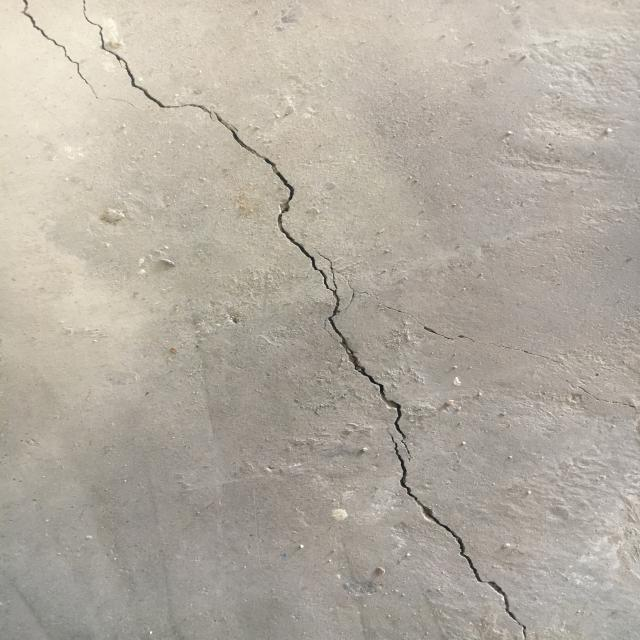Rachadura: (81, 0, 562, 640), (19, 0, 139, 110)
